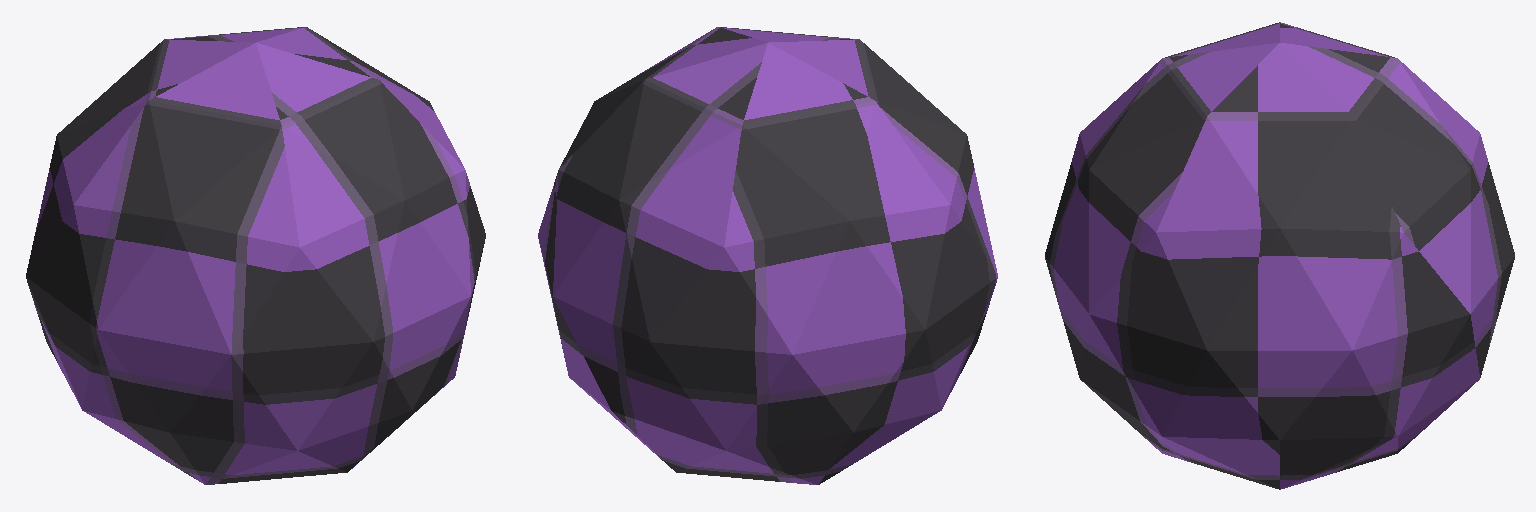
3 views of the same model, side by side, from view 1: azimuth 30°, elevation 25°; view 2: azimuth 150°, elevation 25°; view 3: azimuth 270°, elevation 25° (orthographic).
Visible parts, largest first — view 1: ICO球; view 2: ICO球; view 3: ICO球.
Part boxes in pixels (x1,y1,x2,y2): ICO球: (26,27,485,484); ICO球: (538,27,997,484); ICO球: (1045,22,1514,489).
Bounding box in the file's own units: 1.9 × 2 × 2.
Materials: 1 (1 with a texture image).